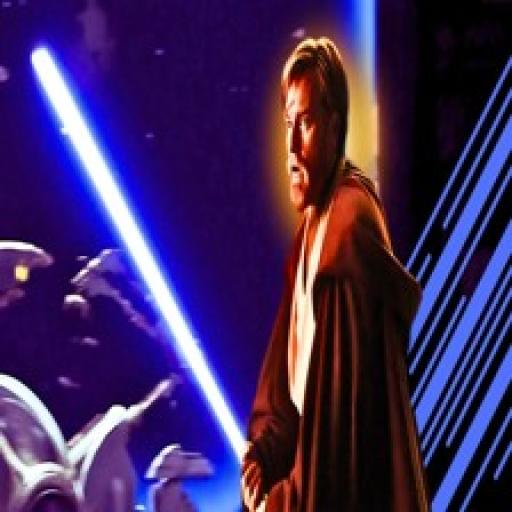human: (218, 27, 440, 512)
lightsaber: (30, 45, 274, 512)
